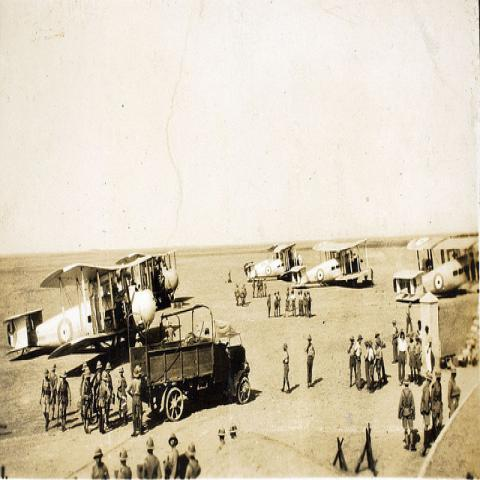truck: (130, 340, 251, 420)
